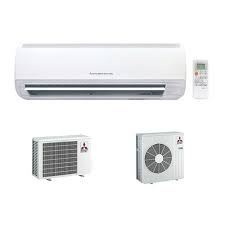ac: (14, 38, 188, 106)
